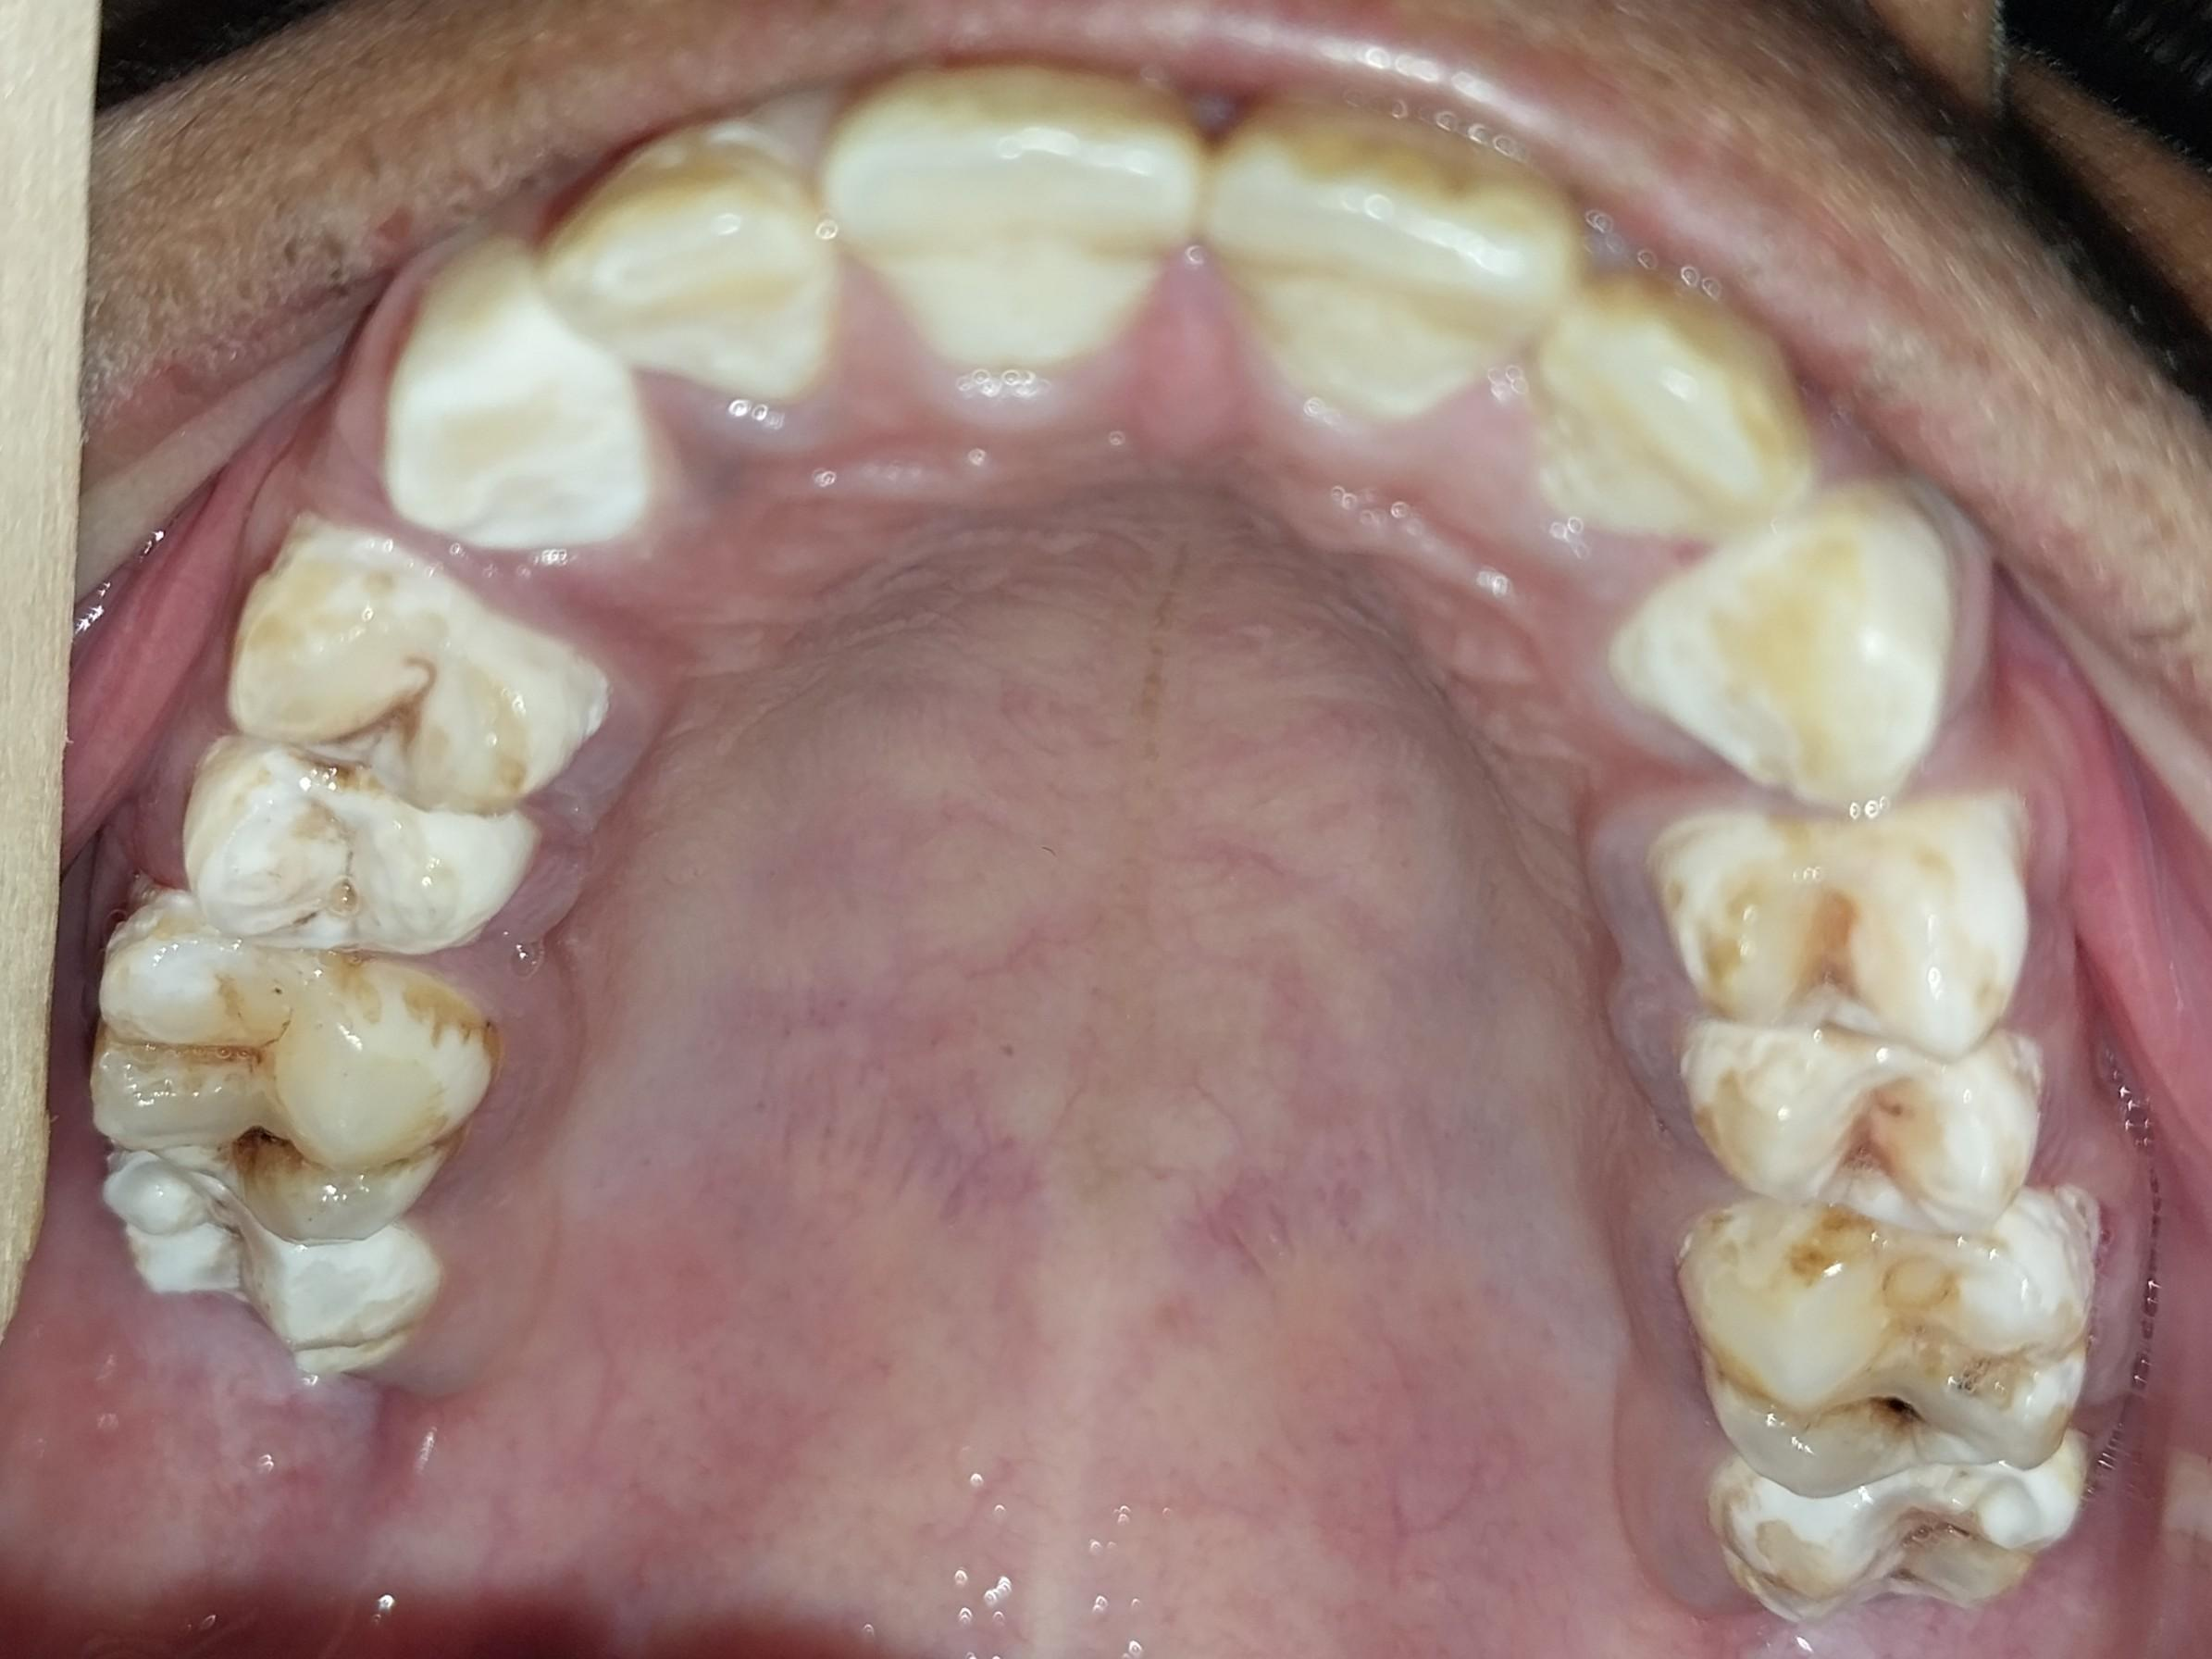D: (95, 886, 488, 1251), (1687, 1200, 2094, 1483), (228, 536, 593, 816), (1651, 816, 2032, 1055), (1706, 1416, 2094, 1621), (1676, 1012, 2037, 1224), (182, 750, 531, 954)
